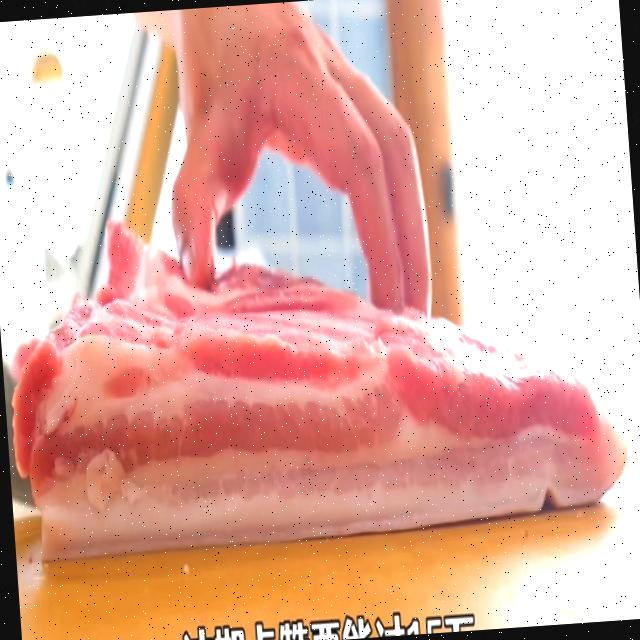meat: (4, 265, 628, 573)
